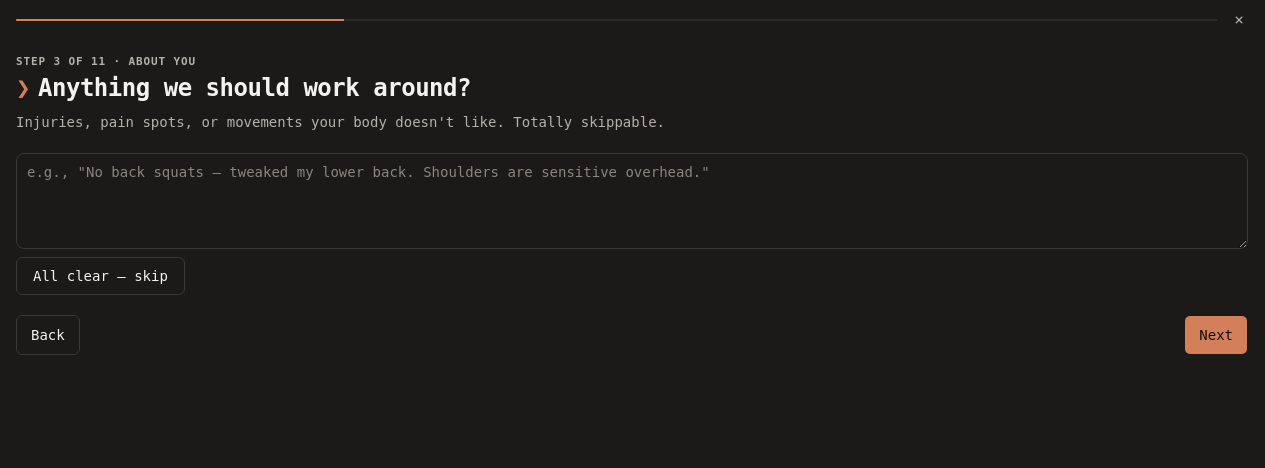
Test: QuestionnaireScreen › Back from step 3 keeps the step-2 answer
Expected: the heading "❯ Anything we should work around?" is shown, [16,74,471,102]
Click the button "Back". click: (48, 335)
box: [16,315,80,355]
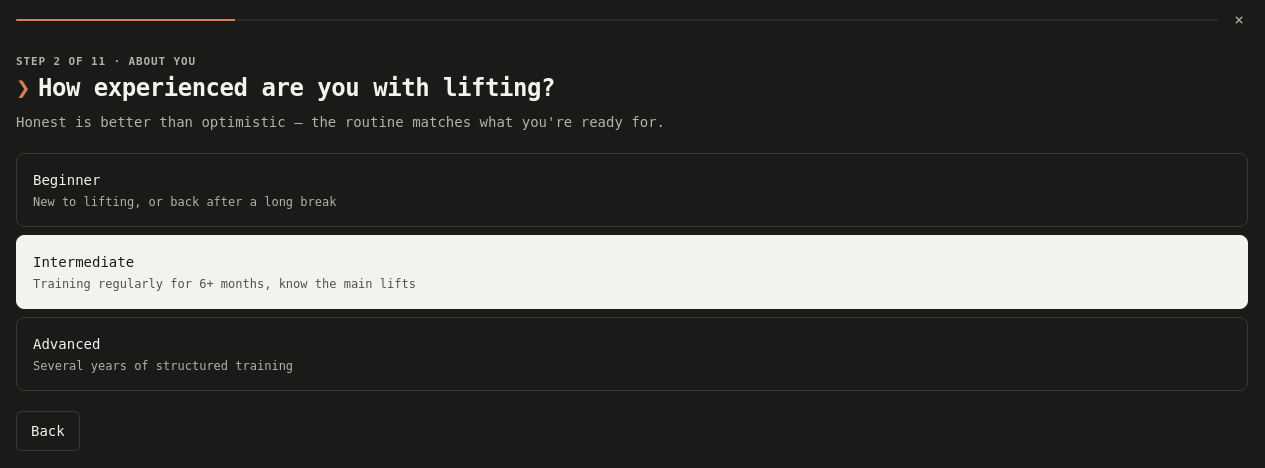
Now the heading "❯ How experienced are you with lifting?" is shown, box [16,74,555,102]
Now the radio button labelled "Intermediate" is checked, box [16,235,1248,309]
